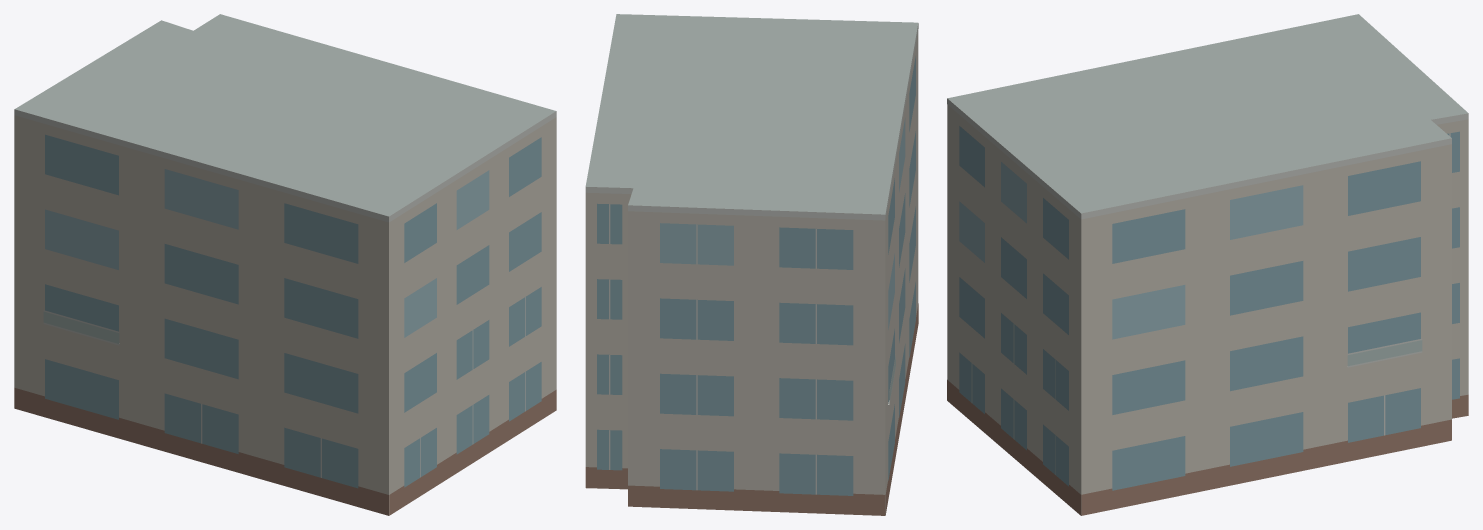
Rendered from survey-upis-32727491.glb.
3 views of the same model, side by side, from view 1: azimuth 30°, elevation 25°; view 2: azimuth 150°, elevation 25°; view 3: azimuth 270°, elevation 25° (orthographic).
Visible parts, largest first — view 1: survey-upis-32727491.tmp; view 2: survey-upis-32727491.tmp; view 3: survey-upis-32727491.tmp.
Boxes of the visible parts, box(x1,y1,x2,y2) form: survey-upis-32727491.tmp: box(14, 14, 556, 515); survey-upis-32727491.tmp: box(585, 14, 918, 515); survey-upis-32727491.tmp: box(947, 14, 1468, 515).
Size of the model in its own units: 17.41 by 12.3 by 19.24.
